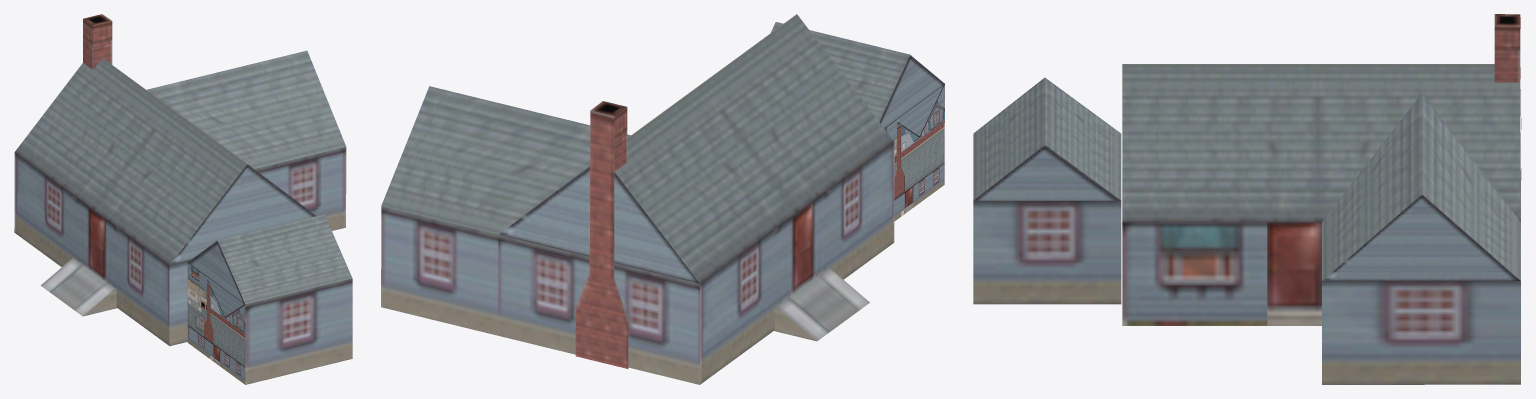
Rendered from house02.glb.
3 renders of one model, left to right at view 1: azimuth 30°, elevation 25°; view 2: azimuth 150°, elevation 25°; view 3: azimuth 270°, elevation 25°, orthographic. The views are drawn at different scales.
Parts seen in each view (by area): view 1: house02; view 2: house02; view 3: house02.
Part boxes in pixels (x1=…): house02: x1=14, y1=14, x2=352, y2=384; house02: x1=381, y1=14, x2=944, y2=384; house02: x1=973, y1=14, x2=1521, y2=384.
Size of the model in its own units: 1824 by 1203 by 2340.
Materials: 1 (1 with a texture image).
